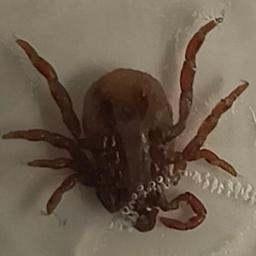Rhipicephalus sanguineus: (0, 17, 249, 232)
